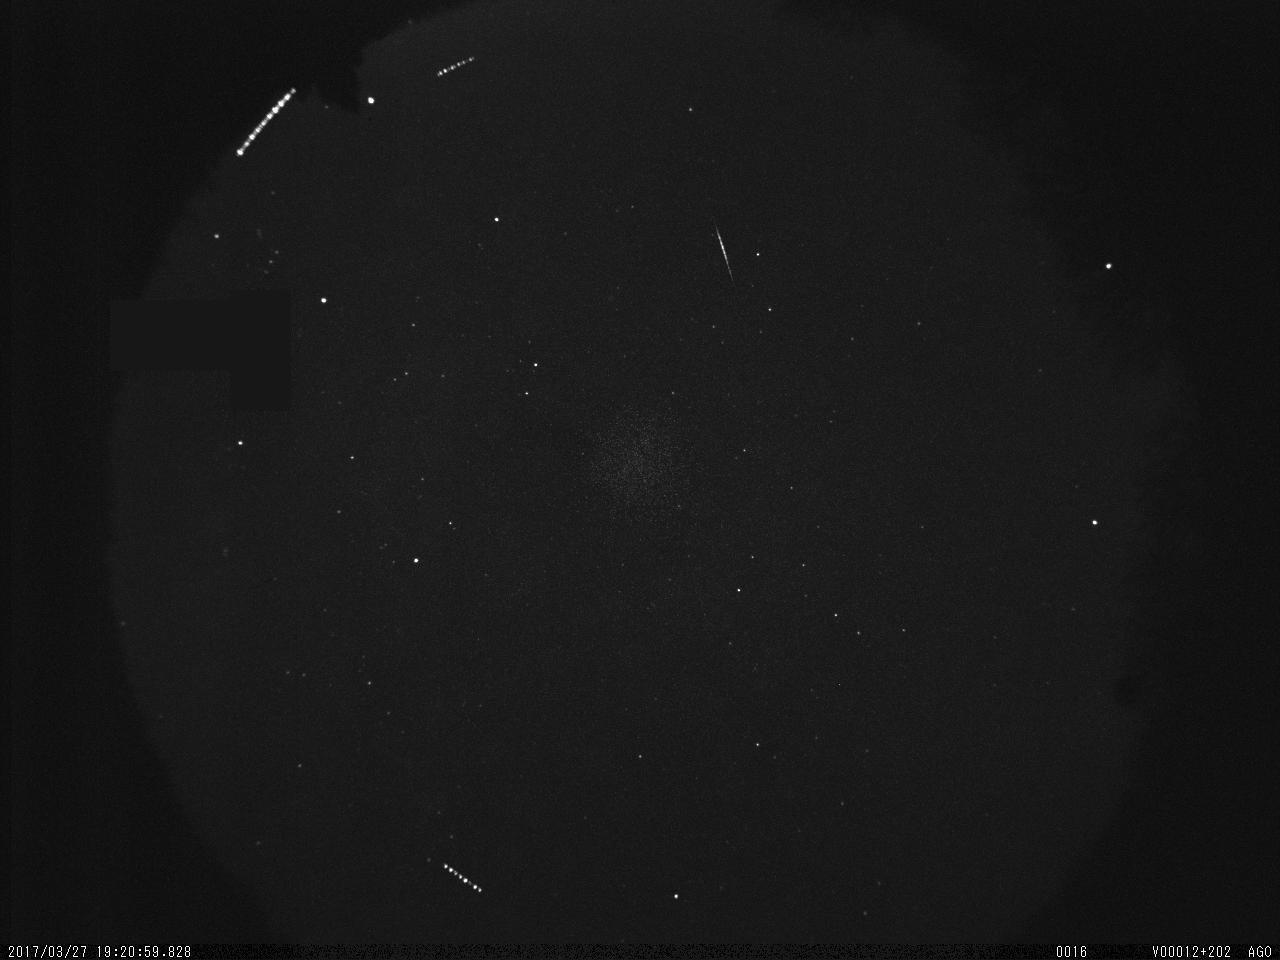meteor: (703, 212, 747, 287)
satelite: (228, 66, 311, 165), (430, 850, 501, 905), (431, 48, 487, 84)
